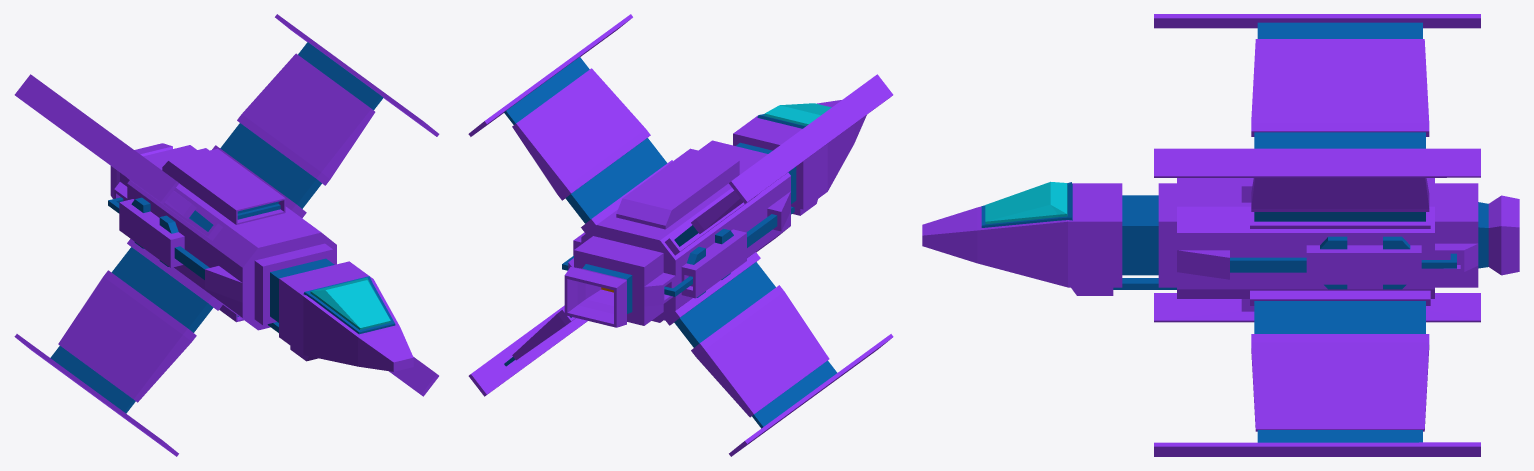
The model's file is Enemy_Ship.fbx.
3 views of the same model, side by side, from view 1: azimuth 30°, elevation 25°; view 2: azimuth 150°, elevation 25°; view 3: azimuth 270°, elevation 25° (orthographic). The views are drawn at different scales.
Parts seen in each view (by area): view 1: Fighter_2; view 2: Fighter_2; view 3: Fighter_2.
Part boxes in pixels (x1,y1,x2,y2): Fighter_2: (14, 14, 439, 456); Fighter_2: (468, 14, 893, 456); Fighter_2: (922, 14, 1519, 456).
Bounding box in the file's own units: 39.68 × 37.49 × 65.8.
